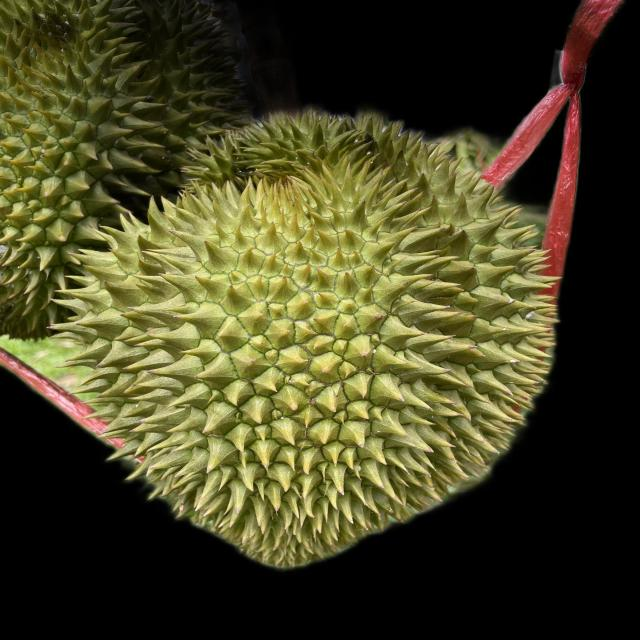immature: (65, 108, 559, 566)
